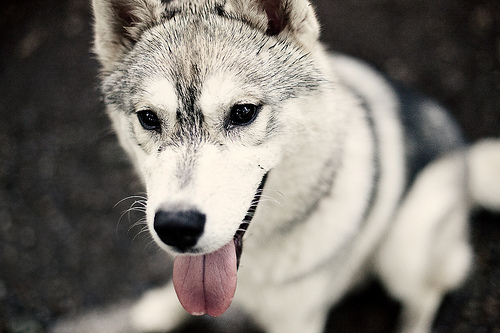dog: (91, 1, 499, 332)
